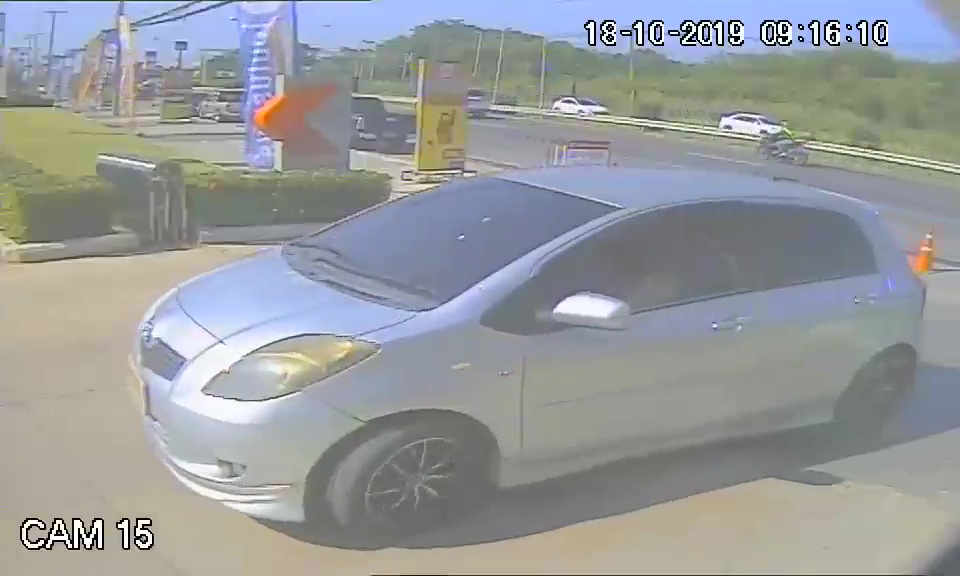sedan: (131, 158, 924, 520)
